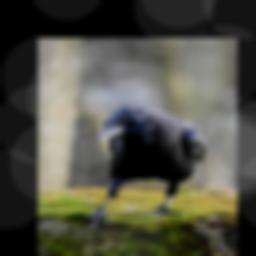Crow: (80, 107, 208, 230)
